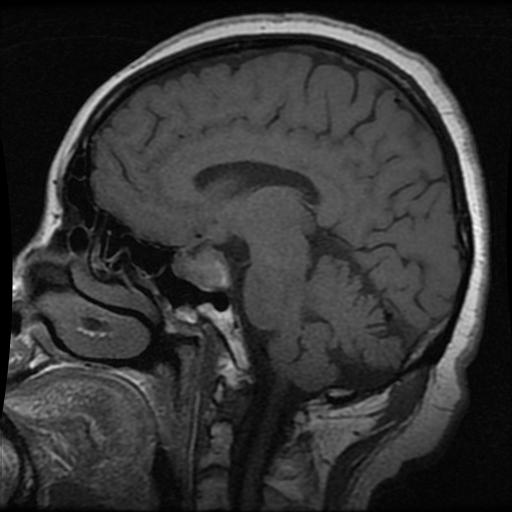Pituirity_tumour: (172, 247, 231, 291)
